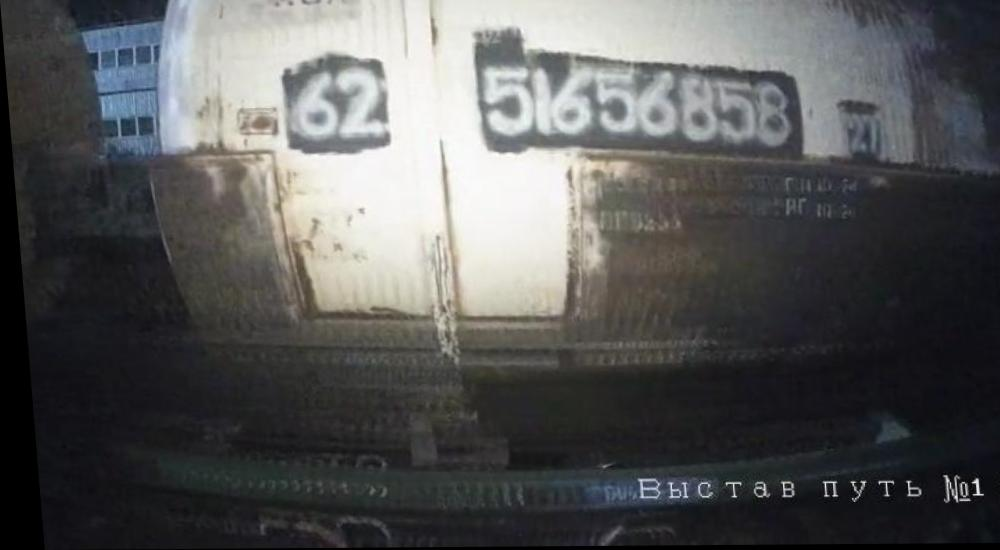Wagon-number: (477, 63, 795, 155)
